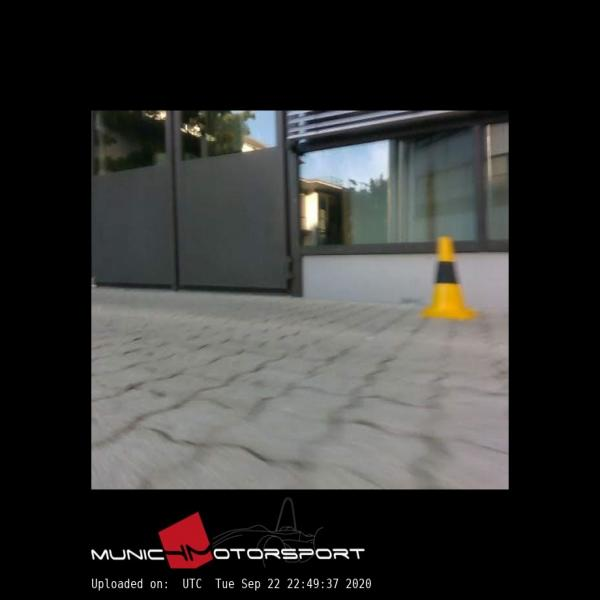yellow_cone: (418, 236, 474, 320)
